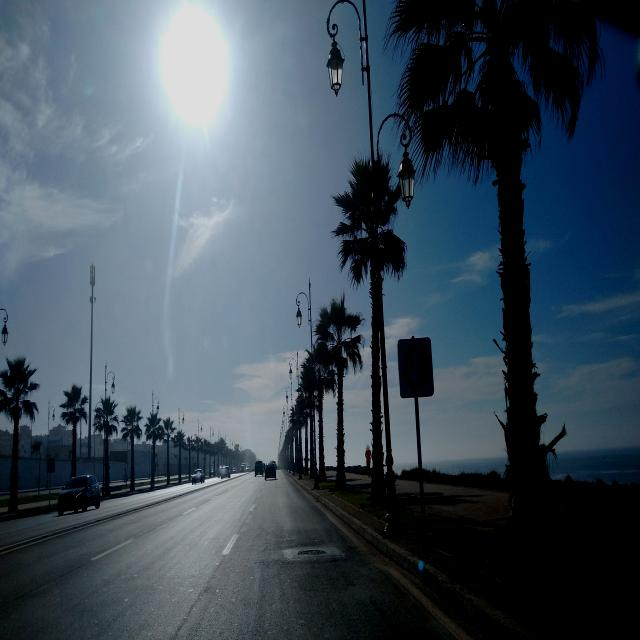car: (56, 474, 102, 516), (264, 460, 277, 481), (190, 466, 204, 483), (218, 464, 231, 480), (254, 459, 264, 476)
